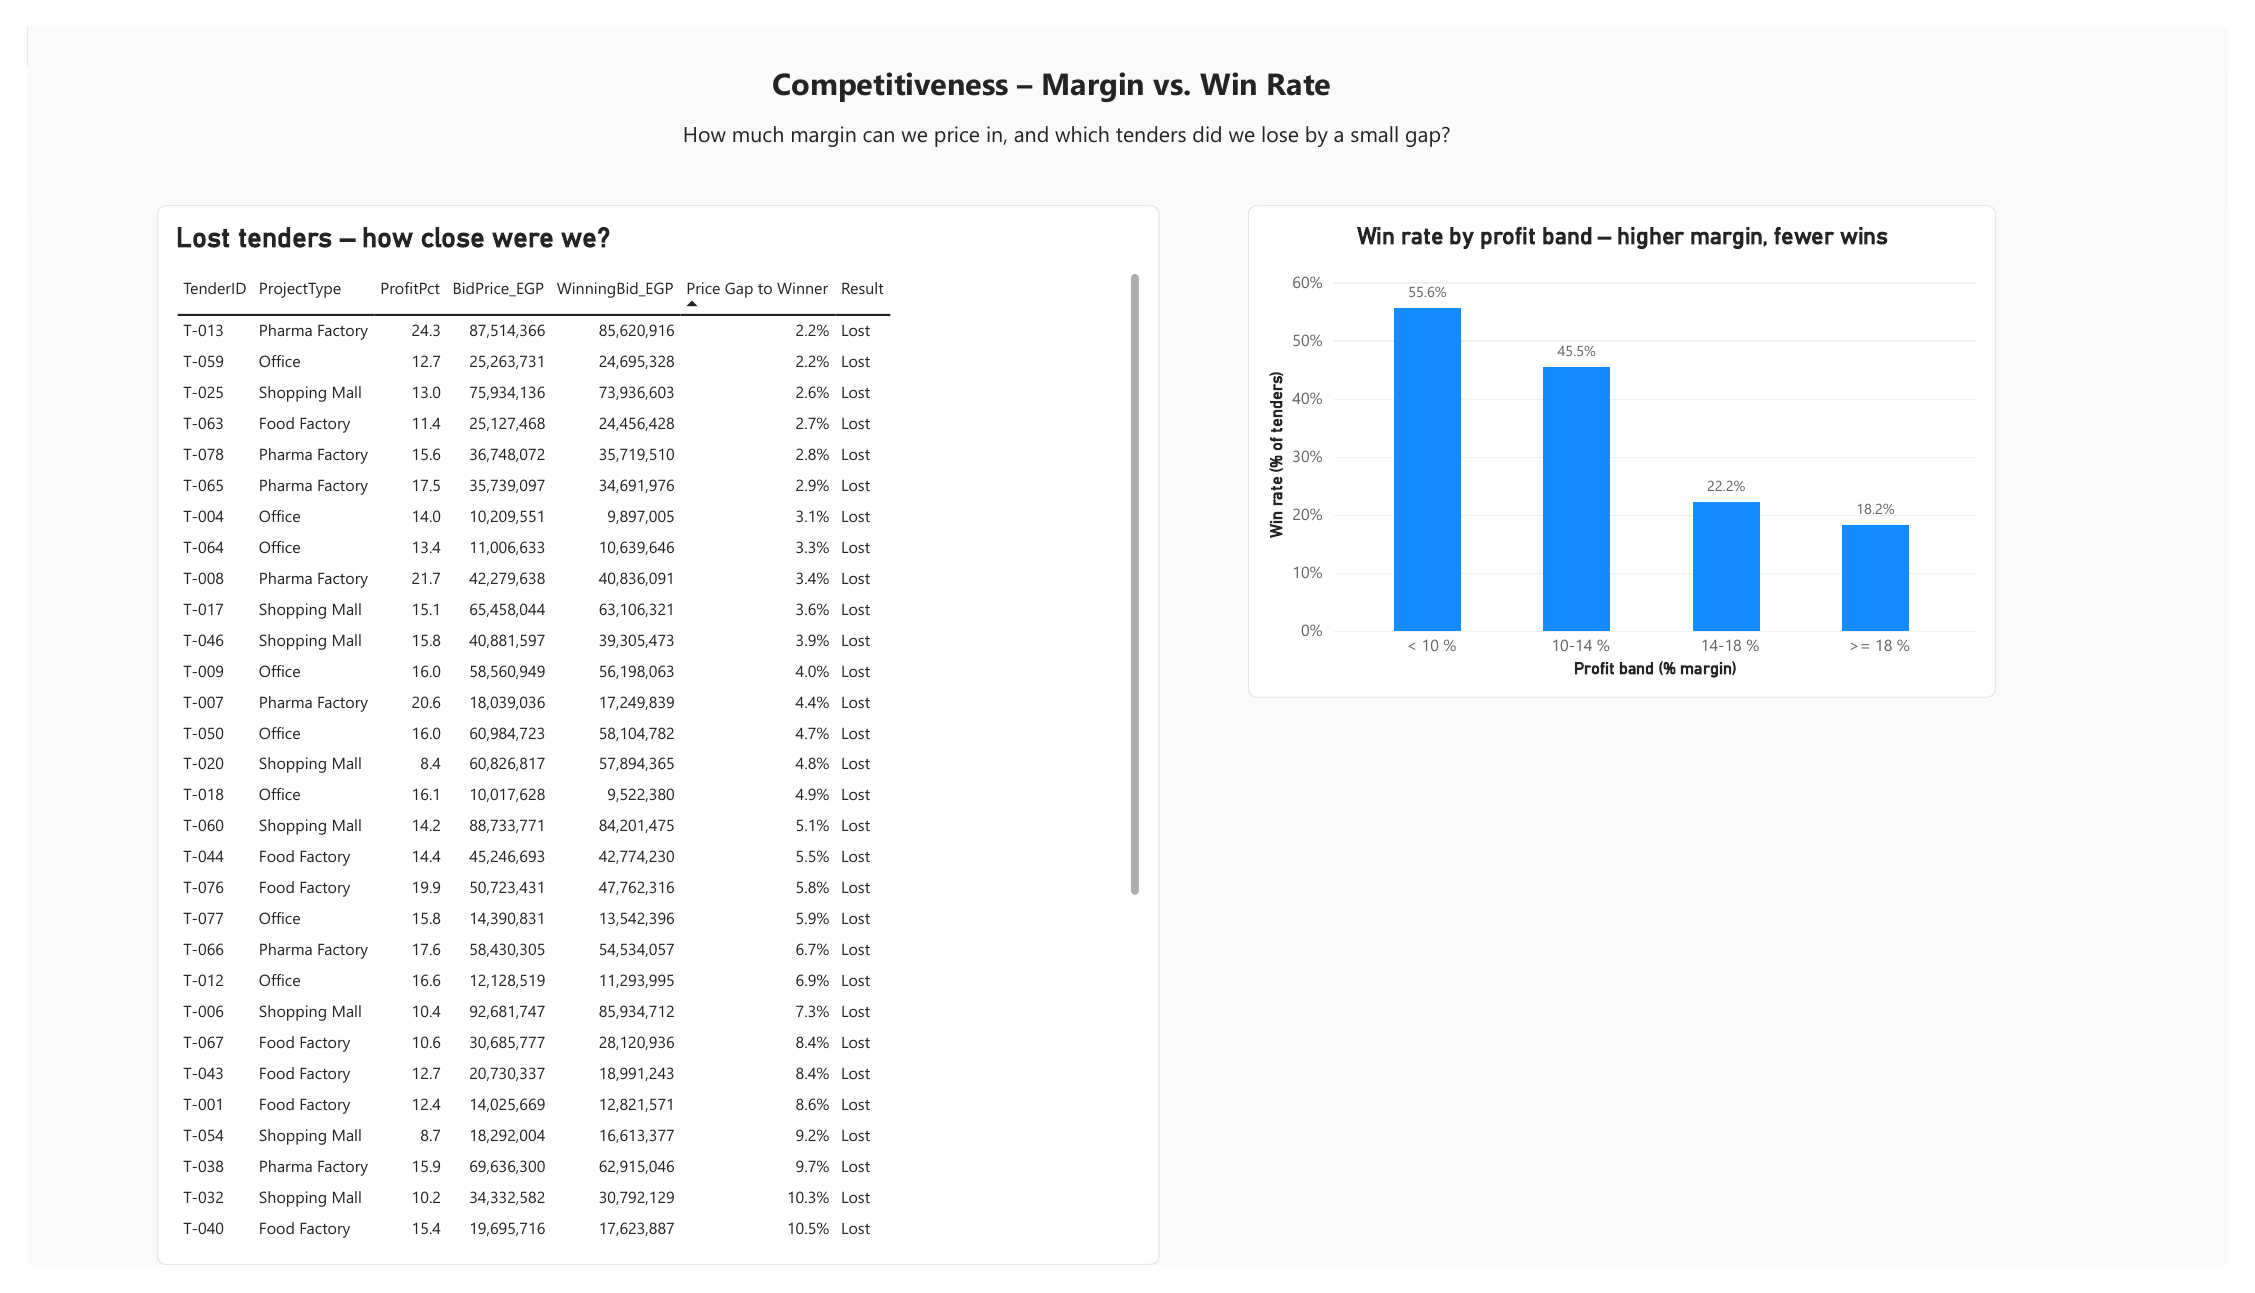

This screenshot's page, from the dashboard's own definition file:
{"tool":"powerbi","page":{"name":"Competitiveness","canvas":[1920,1080],"ordinal":4},"visuals":[{"type":"clusteredColumnChart","title":"Win rate by profit band – higher margin, fewer wins","fields":{"Category":["tenders.Profit Band"],"Y":["tenders.Win Rate"]},"box":[1065,155,653.3,430],"z":0},{"type":"tableEx","title":" Lost tenders – how close were we?","fields":{"Values":["tenders.TenderID","tenders.ProjectType","tenders.ProfitPct","tenders.BidPrice_EGP","tenders.WinningBid_EGP","tenders.Price Gap to Winner","tenders.Result"]},"box":[113.3,155,875,925],"z":1000},{"type":"textbox","box":[650,30,1200,56],"z":2000},{"type":"textbox","box":[571.7,80,745,68.3],"z":3000}]}

Visuals, with their boxes in screenshot pixels (x1, y1, x2, y2), scaled from the page's 1920x1080 canvas onto the 2255x1293 screenshot:
"Win rate by profit band – higher margin, fewer wins" clusteredColumnChart: (1251, 186, 2018, 700)
" Lost tenders – how close were we?" tableEx: (133, 186, 1161, 1292)
textbox: (763, 36, 2173, 103)
textbox: (671, 96, 1546, 178)
